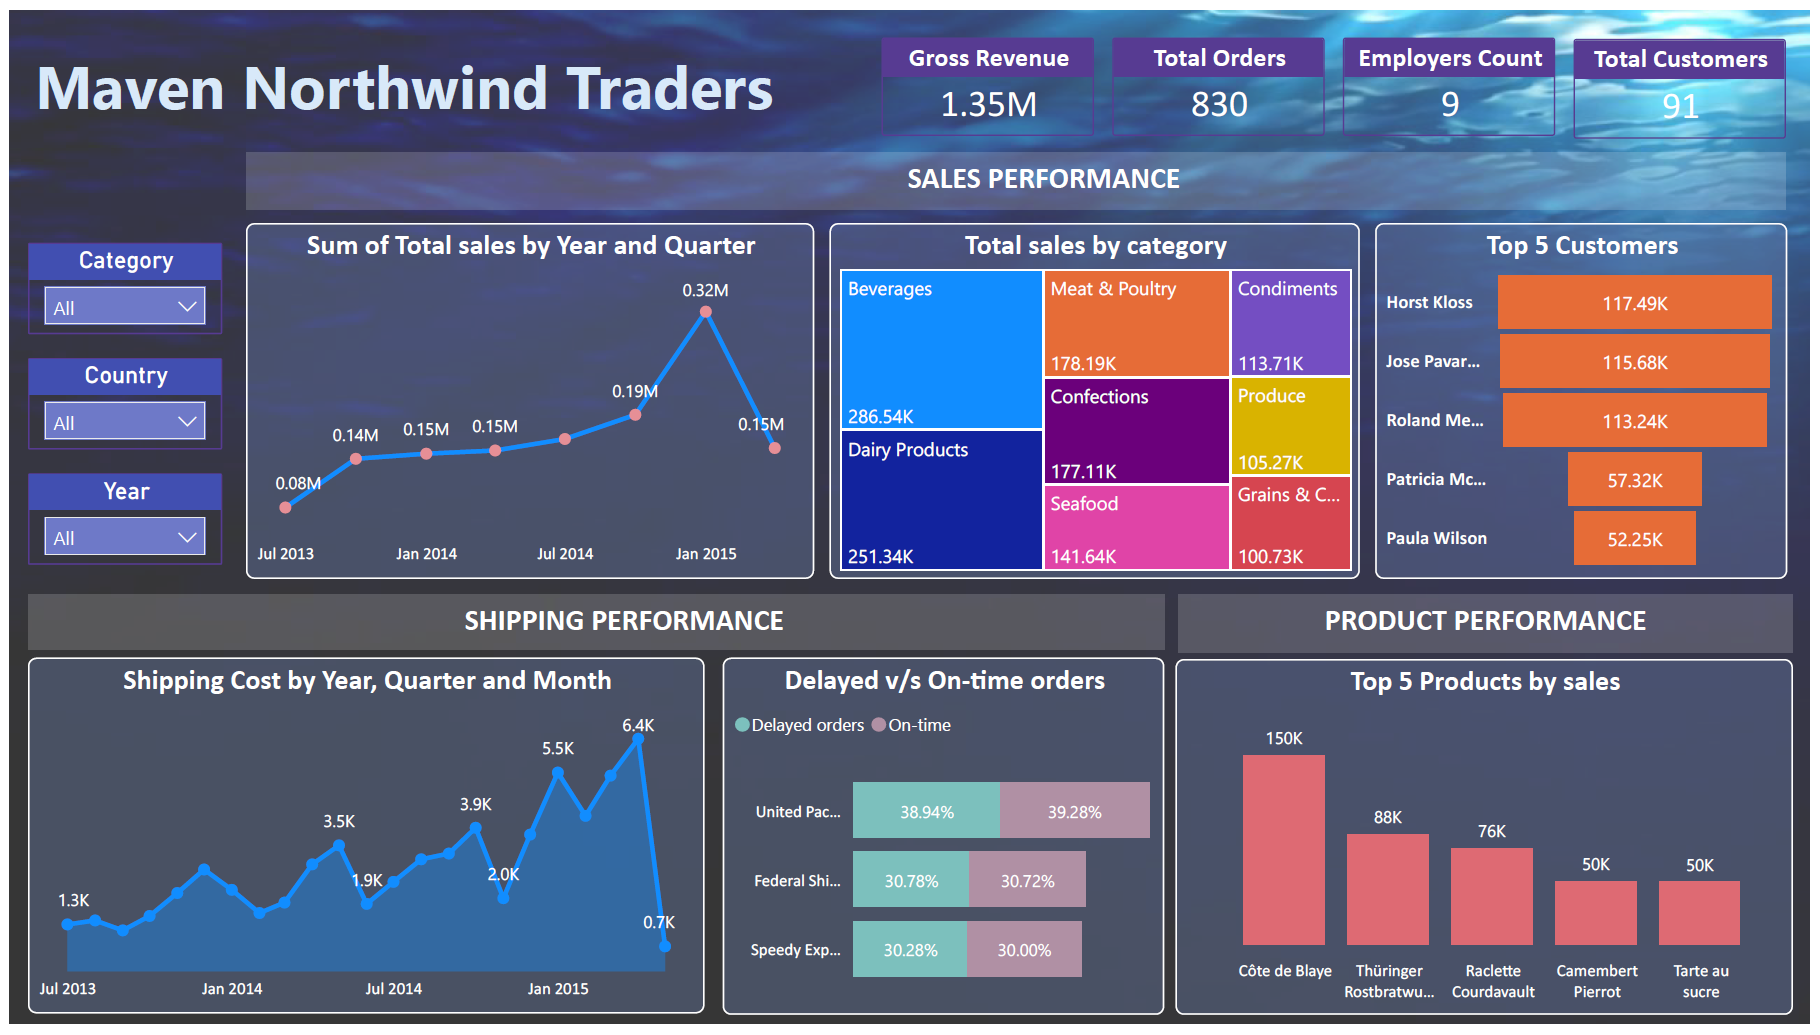

Layout of this report page (visuals, bound fields, positions):
{"tool":"powerbi","page":{"name":"Dashboard","canvas":[1280,720],"ordinal":0},"visuals":[{"type":"barChart","title":"Delayed v/s On-time orders","fields":{"Category":["shippers.companyName"],"Y":["orders.shippedDate","orders.requiredDate"]},"box":[507.3,459.9,313.3,254.4],"z":0},{"type":"treemap","title":"Total sales by category","fields":{"Group":["categories.categoryName"],"Values":["order_details.Total sales"]},"box":[582.5,150.9,378,252.9],"z":1000},{"type":"lineChart","fields":{"Category":["orders.orderDate.Variation.Date Hierarchy.Year","orders.orderDate.Variation.Date Hierarchy.Quarter","orders.orderDate.Variation.Date Hierarchy.Month"],"Y":["order_details.Total sales"]},"box":[168,150.9,403.8,252.9],"z":2000},{"type":"funnel","title":"Top 5 Customers","fields":{"Category":["customers.contactName"],"Y":["order_details.Total sales"]},"box":[970.5,150.9,293.2,252.9],"z":3000},{"type":"areaChart","title":"Shipping Cost by Year, Quarter and Month","fields":{"Category":["orders.orderDate.Variation.Date Hierarchy.Year","orders.orderDate.Variation.Date Hierarchy.Quarter","orders.orderDate.Variation.Date Hierarchy.Month"],"Y":["orders.freight"]},"box":[12.9,459.9,481.4,252.9],"z":4000},{"type":"textbox","box":[830.7,415.3,436.9,40.2],"z":5000},{"type":"clusteredColumnChart","title":"Top 5 Products by sales","fields":{"Category":["products.productName"],"Y":["order_details.Total sales"]},"box":[829.2,461.3,438.3,252.9],"z":6000},{"type":"textbox","box":[12.9,415.3,807.7,38.8],"z":7000},{"type":"textbox","box":[168.1,100.6,1095.1,40.2],"z":8000},{"type":"textbox","title":"Maven Northwind","box":[12.9,18.7,547.5,81.9],"z":9000},{"type":"card","title":"Gross Revenue","fields":{"Values":["order_details.Total sales"]},"box":[620.4,18.7,150.9,70.4],"z":10000},{"type":"card","title":"Total Orders","fields":{"Values":["orders.orderID"]},"box":[784.3,18.7,150.9,70.4],"z":11000},{"type":"card","title":"Employers Count","fields":{"Values":["employees.employeeName"]},"box":[948.1,18.7,150.9,70.4],"z":12000},{"type":"card","title":"Total Customers","fields":{"Values":["customers.contactName"]},"box":[1111.9,20.1,150.9,70.4],"z":13000},{"type":"slicer","title":"Category","fields":{"Values":["categories.categoryName"]},"box":[12.9,165.3,138,64.7],"z":14000},{"type":"slicer","title":"Country","fields":{"Values":["customers.country"]},"box":[12.9,247.2,138,64.7],"z":15000},{"type":"slicer","title":"Year","fields":{"Values":["orders.orderDate.Variation.Date Hierarchy.Year"]},"box":[12.9,329.1,138,64.7],"z":16000}]}

Visuals, with their boxes in screenshot pixels (x1, y1, x2, y2), scaled from the page's 1280x720 canvas onto the 1820x1035 screenshot:
"Delayed v/s On-time orders" barChart: [x1=721, y1=661, x2=1167, y2=1027]
"Total sales by category" treemap: [x1=828, y1=217, x2=1366, y2=580]
lineChart - orders.orderDate.Variation.Date Hierarchy.Year x orders.orderDate.Variation.Date Hierarchy.Quarter: [x1=239, y1=217, x2=813, y2=580]
"Top 5 Customers" funnel: [x1=1380, y1=217, x2=1797, y2=580]
"Shipping Cost by Year, Quarter and Month" areaChart: [x1=18, y1=661, x2=703, y2=1025]
textbox: [x1=1181, y1=597, x2=1802, y2=655]
"Top 5 Products by sales" clusteredColumnChart: [x1=1179, y1=663, x2=1802, y2=1027]
textbox: [x1=18, y1=597, x2=1167, y2=653]
textbox: [x1=239, y1=145, x2=1796, y2=202]
"Maven Northwind" textbox: [x1=18, y1=27, x2=797, y2=145]
"Gross Revenue" card: [x1=882, y1=27, x2=1097, y2=128]
"Total Orders" card: [x1=1115, y1=27, x2=1330, y2=128]
"Employers Count" card: [x1=1348, y1=27, x2=1563, y2=128]
"Total Customers" card: [x1=1581, y1=29, x2=1796, y2=130]
"Category" slicer: [x1=18, y1=238, x2=215, y2=331]
"Country" slicer: [x1=18, y1=355, x2=215, y2=448]
"Year" slicer: [x1=18, y1=473, x2=215, y2=566]
